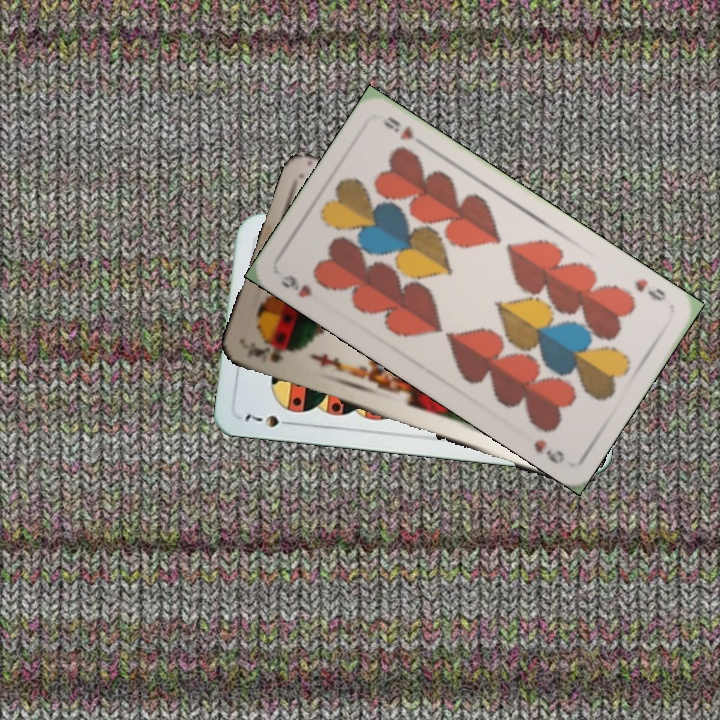H9: (276, 270, 315, 301), (631, 274, 669, 304)
S7: (241, 409, 297, 430)
SK: (243, 338, 287, 366)
